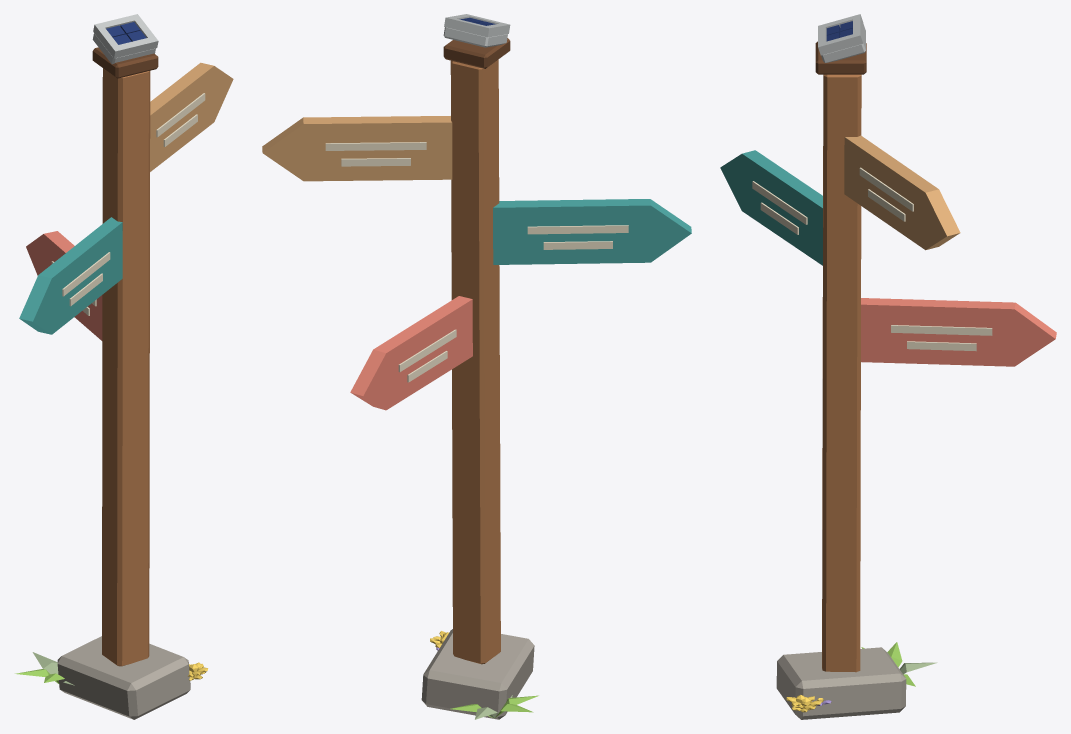
Rendered from signpost.glb.
3 views of the same model, side by side, from view 1: azimuth 30°, elevation 25°; view 2: azimuth 150°, elevation 25°; view 3: azimuth 270°, elevation 25° (orthographic).
Parts seen in each view (by area): view 1: Signpost; view 2: Signpost; view 3: Signpost.
Boxes of the visible parts, x1,y1,x2,y2 form: Signpost: [15, 14, 233, 719]; Signpost: [262, 14, 691, 719]; Signpost: [720, 14, 1056, 719].
Bounding box in the file's own units: 1.18 × 2.37 × 1.06.
Materials: 2 (1 with a texture image).
